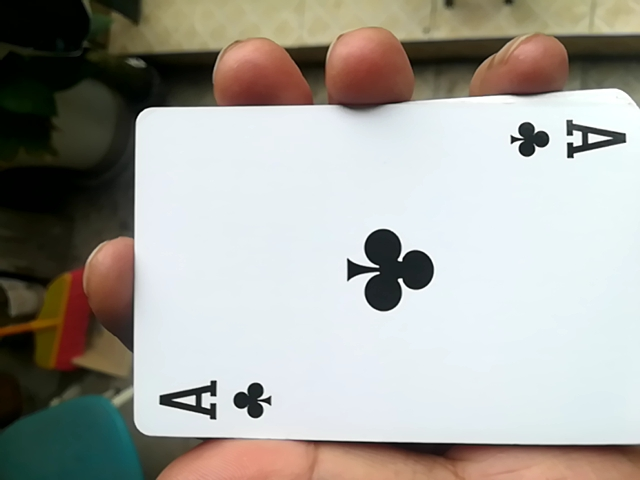mh a: (123, 107, 633, 465)
